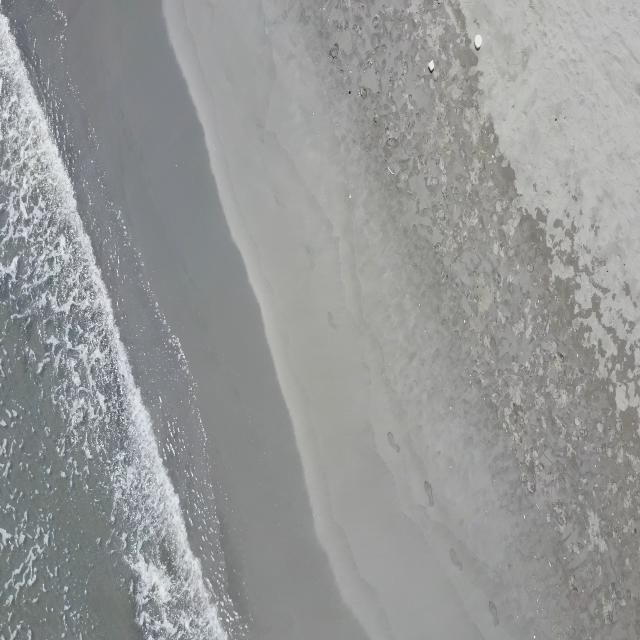take-away-containers: (474, 34, 483, 49), (428, 59, 434, 71)
